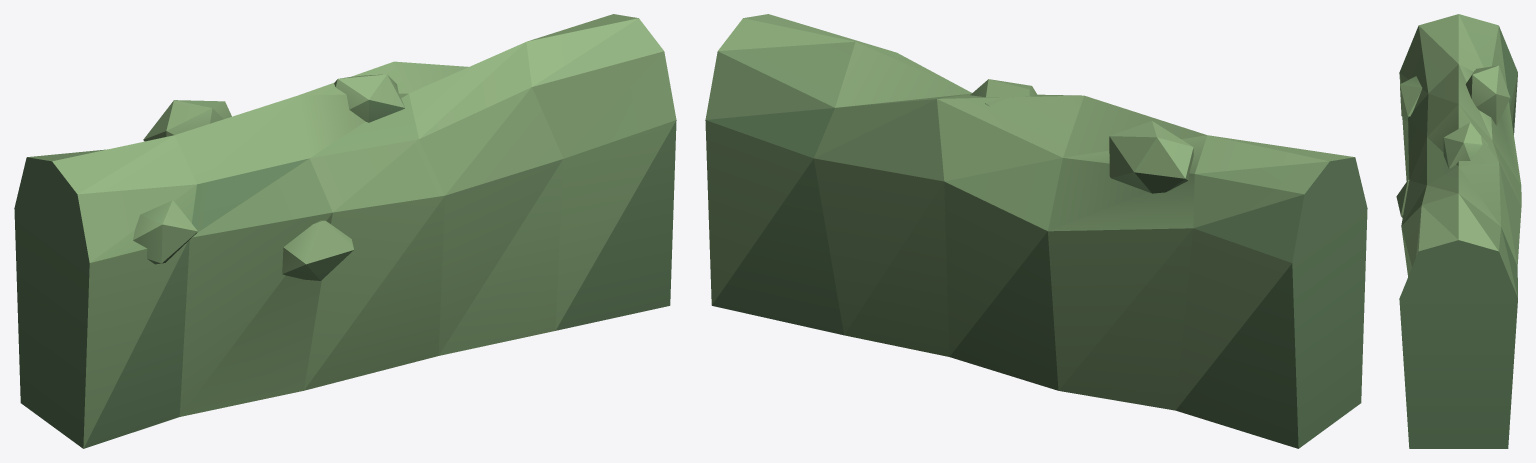
The model's file is hedge.lod1.glb.
3 views of the same model, side by side, from view 1: azimuth 30°, elevation 25°; view 2: azimuth 150°, elevation 25°; view 3: azimuth 270°, elevation 25° (orthographic). The views are drawn at different scales.
Size of the model in its own units: 2 by 0.8837 by 0.4678.
